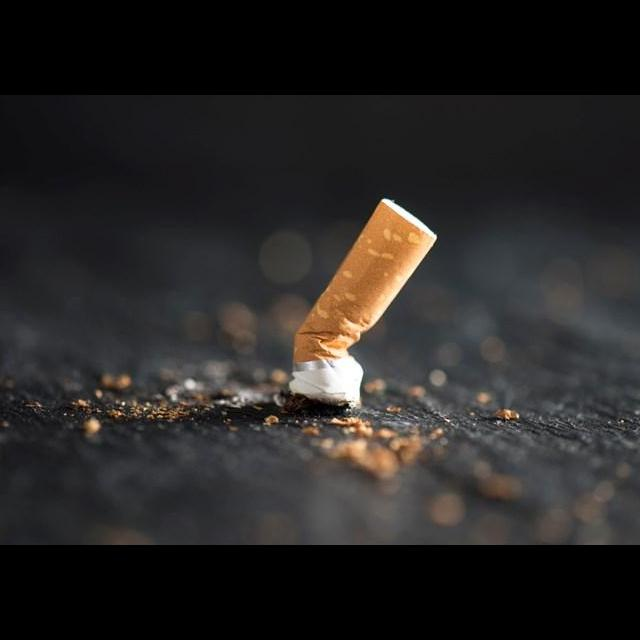Cigarette Butt: (279, 196, 440, 421)
